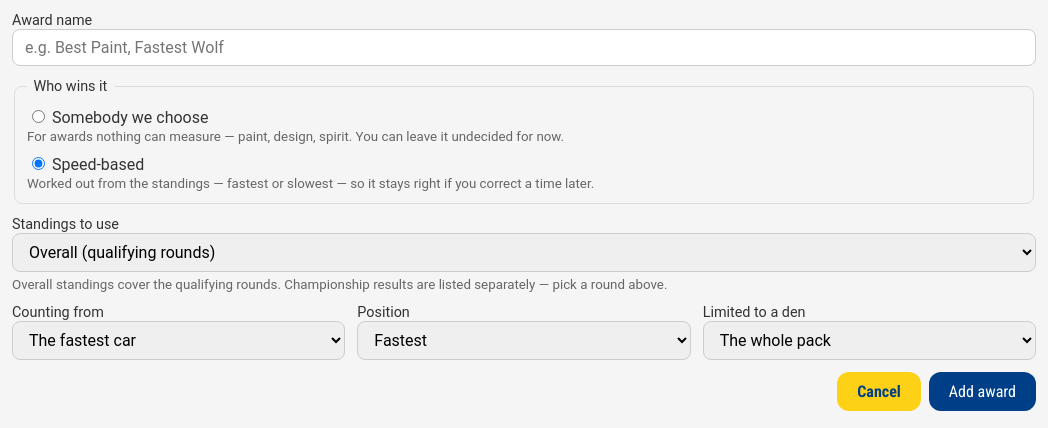
Scenario: AwardForm › shows a note about what "Overall" leaves out, only while it is picked
Expected: the text "cover the qualifying rounds" is shown, [12,277,668,292]
Select "Finals" in the dropdown labelled "Standings to use" at x=524, y=253, box [12,233,1036,272]
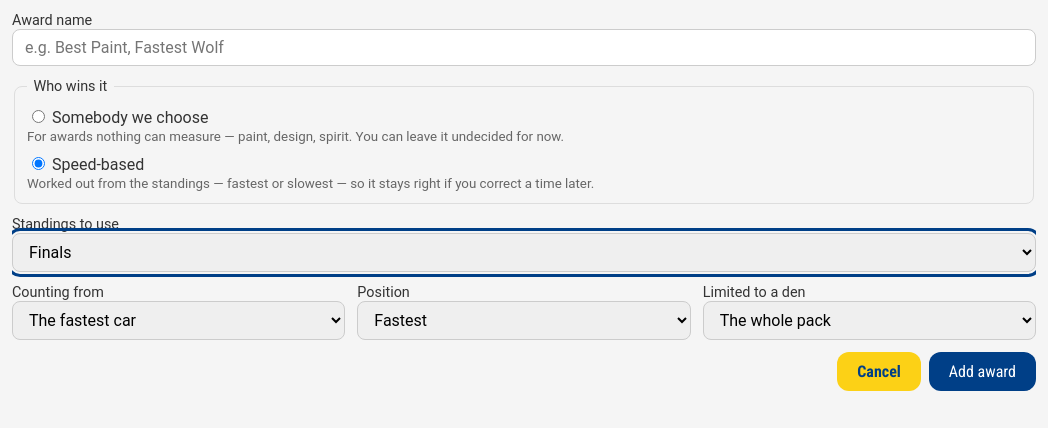
Now the text "cover the qualifying rounds" is gone
